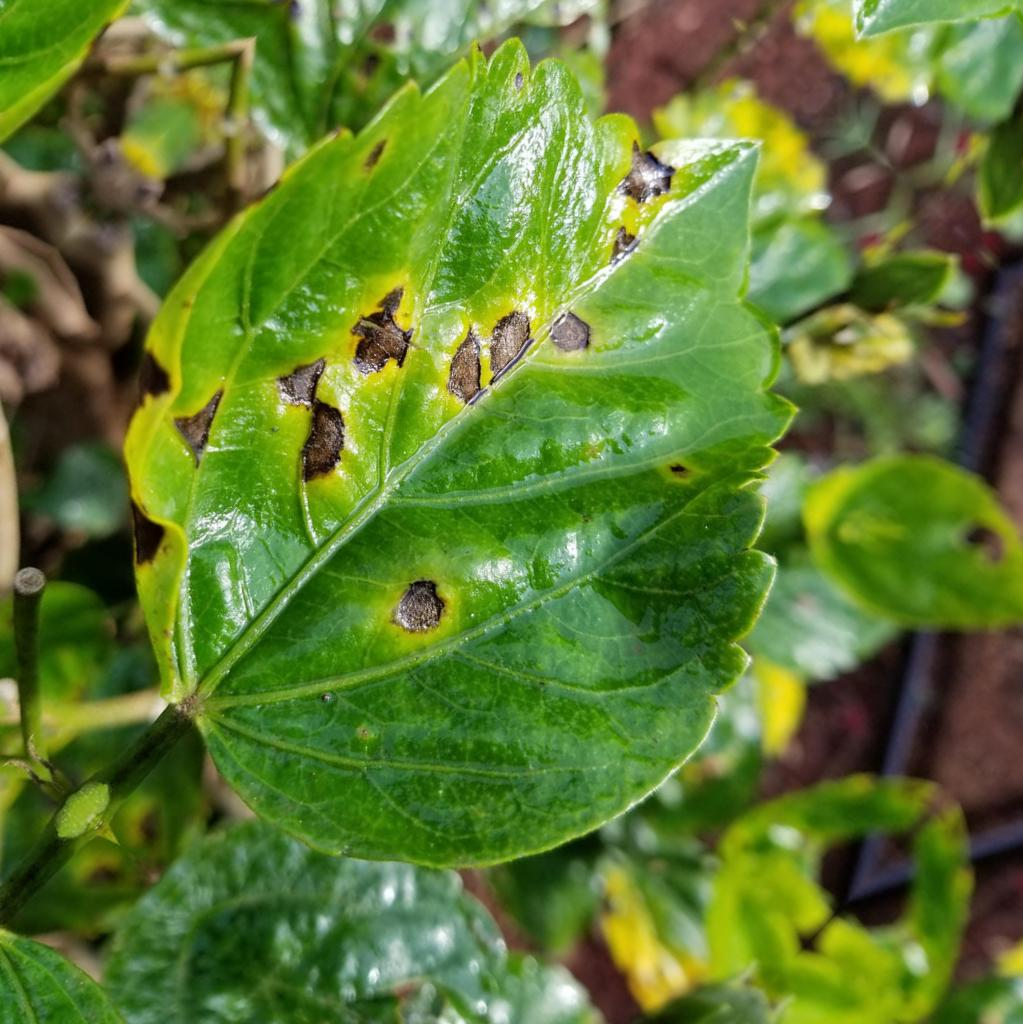Tomato leaf bacterial spot: (0, 0, 1023, 1010)
